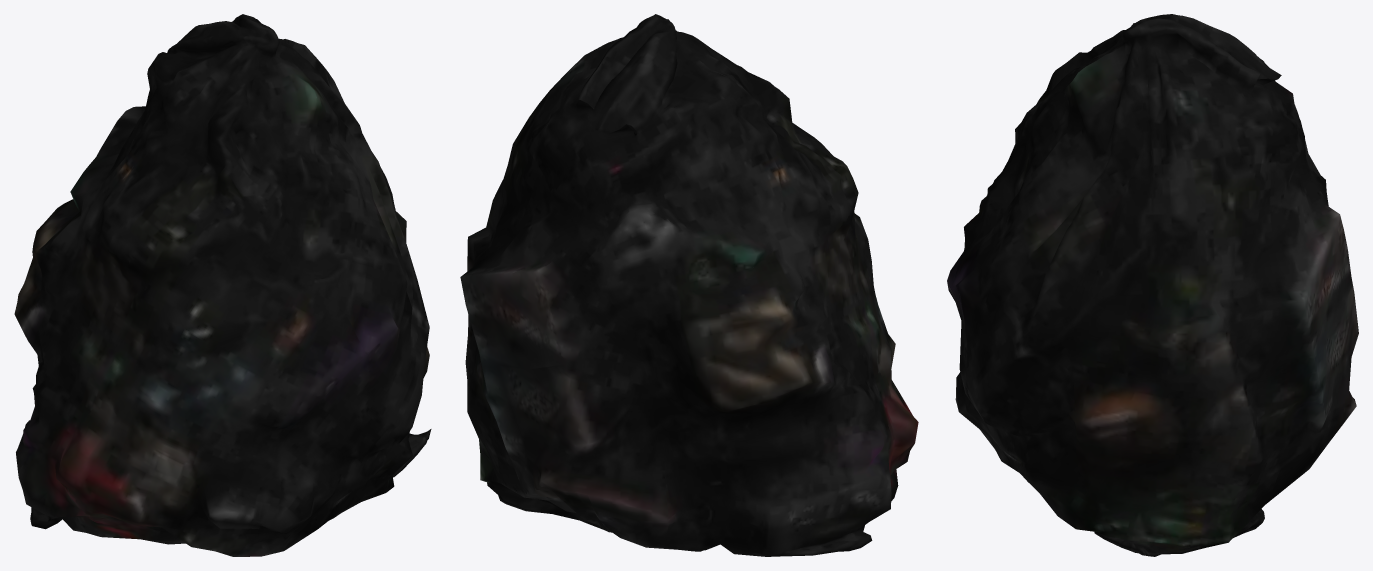
Rendered from trashbag.glb.
3 views of the same model, side by side, from view 1: azimuth 30°, elevation 25°; view 2: azimuth 150°, elevation 25°; view 3: azimuth 270°, elevation 25° (orthographic). The views are drawn at different scales.
Parts seen in each view (by area): view 1: trashbag; view 2: trashbag; view 3: trashbag.
Part boxes in pixels (box(x1,y1,x2,y2)): trashbag: box(14, 14, 431, 556); trashbag: box(460, 14, 918, 556); trashbag: box(947, 14, 1358, 556).
Size of the model in its own units: 0.528 by 0.575 by 0.4629.
1 material, 1 textured.
